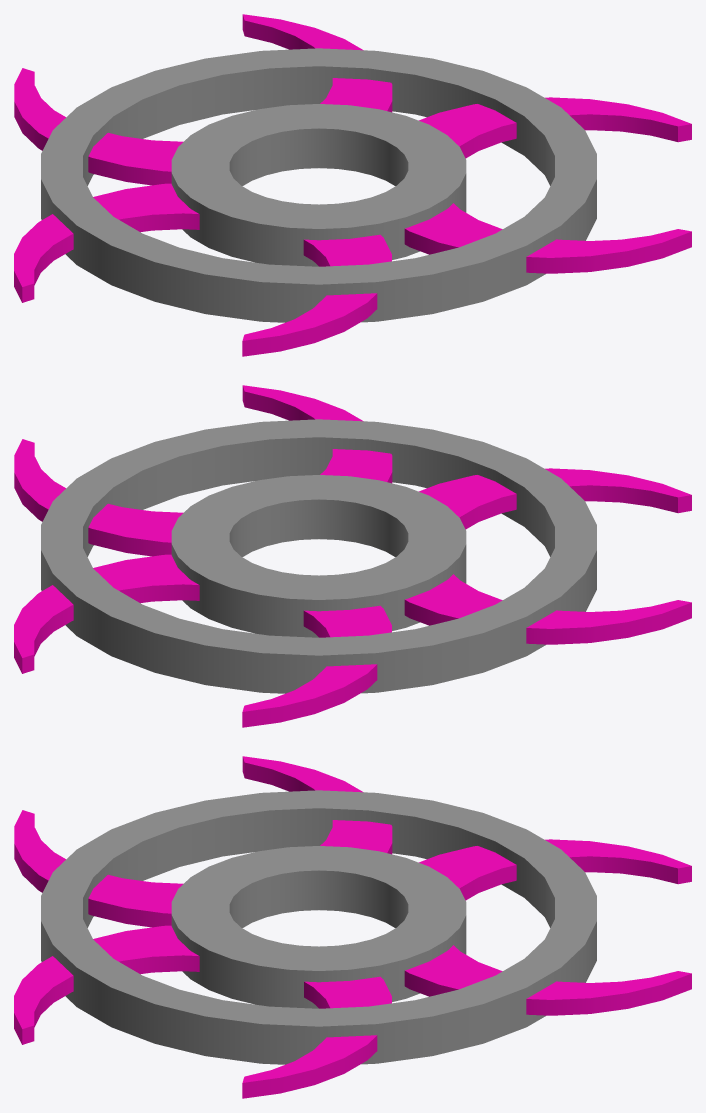
The model's file is spinner_6.FBX.
The picture shows the model from 3 angles, top to bottom: view 1: azimuth 30°, elevation 25°; view 2: azimuth 150°, elevation 25°; view 3: azimuth 270°, elevation 25°; orthographic projection.
Visible parts, largest first — view 1: spinner_6; view 2: spinner_6; view 3: spinner_6.
Part boxes in pixels (x1,y1,x2,y2): spinner_6: (14,14,691,356); spinner_6: (14,385,691,727); spinner_6: (14,756,691,1098).
Bounding box in the file's own units: 0.103 × 0.00583 × 0.0903.
